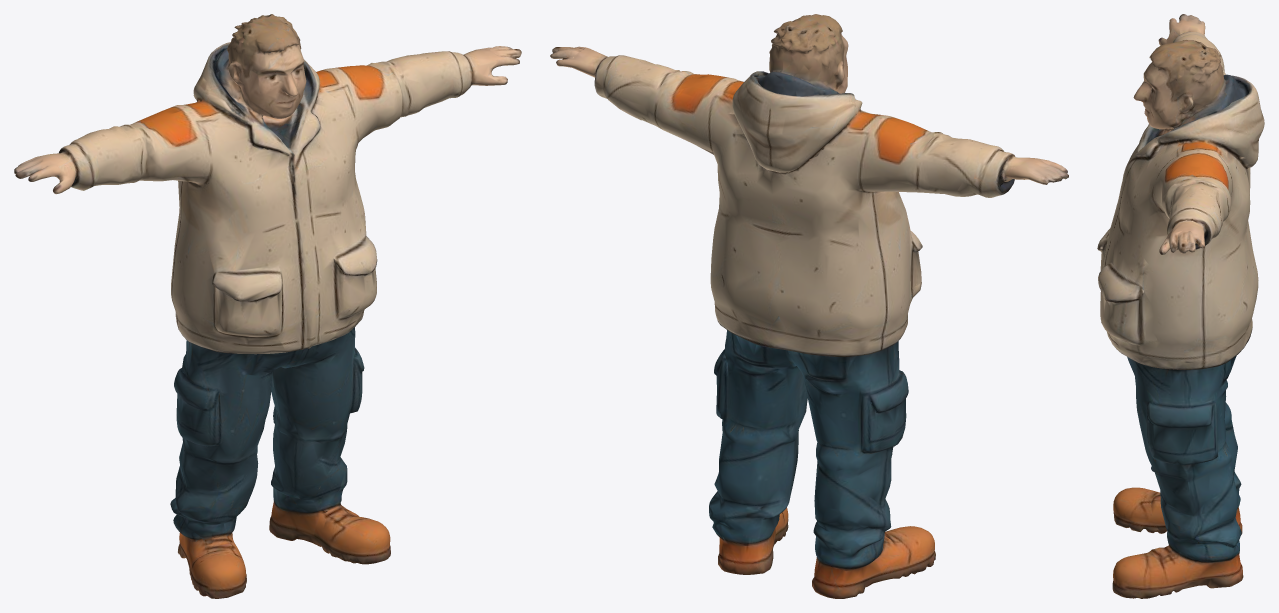
Rendered from parka-man-v01.glb.
3 renders of one model, left to right at view 1: azimuth 30°, elevation 25°; view 2: azimuth 150°, elevation 25°; view 3: azimuth 270°, elevation 25°, orthographic. The views are drawn at different scales.
Bounding box in the file's own units: 1.99 × 2 × 0.5945.
Materials: 1 (1 with a texture image).
